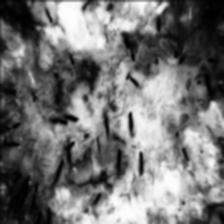Potentially Malignant Skin Tumors: (37, 55, 143, 191), (134, 0, 224, 111)
